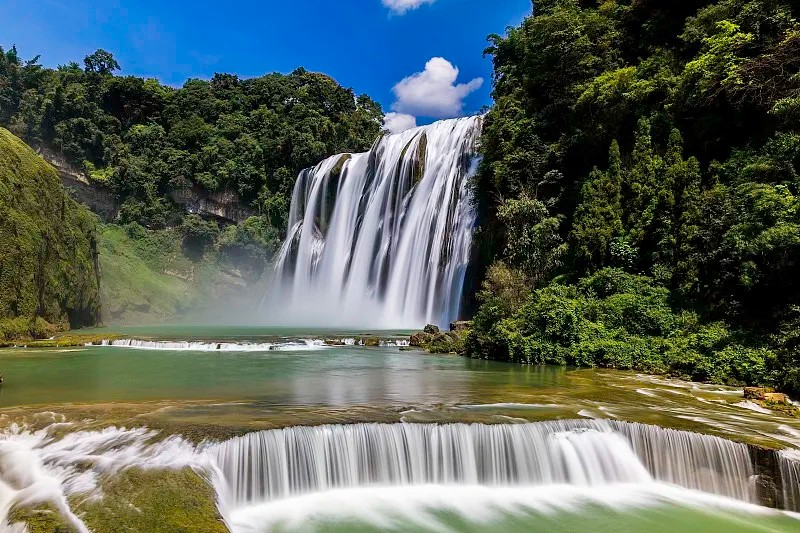Huangguoshu: (270, 113, 485, 332)
